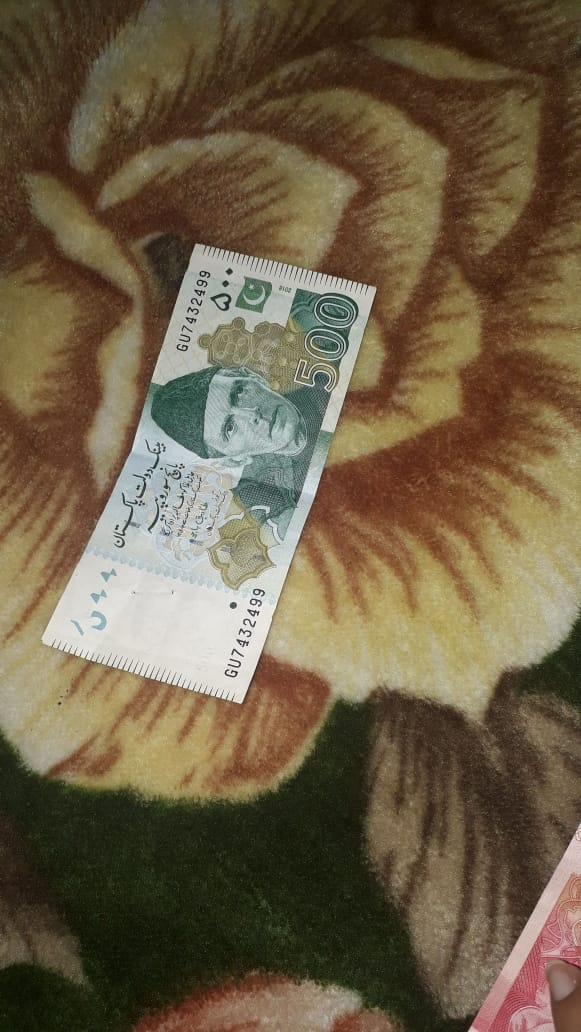500 rupee: (34, 220, 396, 720)
